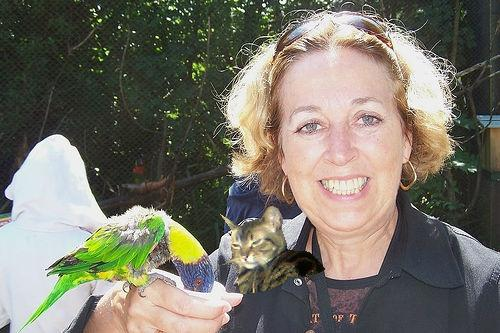tampered: (215, 207, 325, 294)
